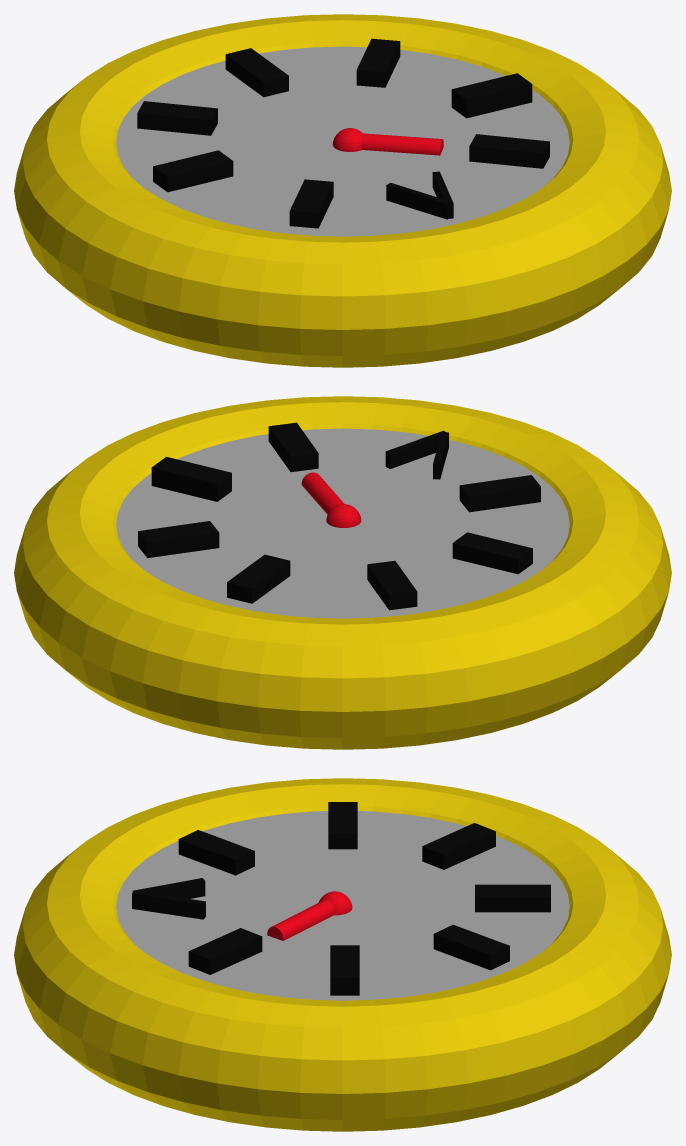
Rendered from VOLTMETER_FINAL_01.fbx.
3 views of the same model, one above another, from view 1: azimuth 30°, elevation 25°; view 2: azimuth 150°, elevation 25°; view 3: azimuth 270°, elevation 25° (orthographic).
Visible parts, largest first — view 1: 环体, 柱体, 立方体.004, 立方体.006, 立方体.007, 立方体, 柱体.001, 立方体.005, 立方体.009, 立方体.001, 立方体.002; view 2: 环体, 柱体, 立方体.004, 立方体.001, 立方体.002, 立方体, 立方体.005, 立方体.006, 立方体.007, 立方体.009, 柱体.001; view 3: 环体, 柱体, 立方体.009, 立方体.005, 立方体.002, 立方体.001, 立方体.007, 立方体.006, 柱体.001, 立方体.004, 立方体.
Part boxes in pixels (x1=…): 环体: x1=14, y1=14, x2=671, y2=367; 柱体: x1=116, y1=46, x2=569, y2=236; 立方体.004: x1=451, y1=73, x2=532, y2=118; 立方体.006: x1=137, y1=101, x2=217, y2=135; 立方体.007: x1=469, y1=134, x2=549, y2=168; 立方体: x1=153, y1=150, x2=233, y2=192; 柱体.001: x1=332, y1=128, x2=443, y2=155; 立方体.005: x1=225, y1=48, x2=288, y2=97; 立方体.009: x1=386, y1=171, x2=453, y2=219; 立方体.001: x1=289, y1=179, x2=333, y2=228; 立方体.002: x1=356, y1=38, x2=400, y2=87; 环体: x1=14, y1=396, x2=671, y2=749; 柱体: x1=116, y1=428, x2=569, y2=618; 立方体.004: x1=151, y1=457, x2=231, y2=501; 立方体.001: x1=459, y1=475, x2=540, y2=512; 立方体.002: x1=138, y1=521, x2=219, y2=558; 立方体: x1=452, y1=532, x2=532, y2=574; 立方体.005: x1=227, y1=554, x2=290, y2=603; 立方体.006: x1=367, y1=560, x2=417, y2=610; 立方体.007: x1=268, y1=422, x2=318, y2=471; 立方体.009: x1=385, y1=430, x2=448, y2=479; 柱体.001: x1=301, y1=472, x2=361, y2=527; 环体: x1=14, y1=778, x2=671, y2=1131; 柱体: x1=116, y1=811, x2=569, y2=1000; 立方体.009: x1=132, y1=878, x2=205, y2=919; 立方体.005: x1=475, y1=884, x2=550, y2=912; 立方体.002: x1=433, y1=924, x2=509, y2=970; 立方体.001: x1=178, y1=830, x2=254, y2=875; 立方体.007: x1=188, y1=928, x2=262, y2=974; 立方体.006: x1=422, y1=823, x2=495, y2=869; 柱体.001: x1=267, y1=891, x2=352, y2=940; 立方体.004: x1=330, y1=945, x2=359, y2=995; 立方体: x1=328, y1=802, x2=357, y2=849.
Size of the model in its own units: 250 by 53.09 by 250.
